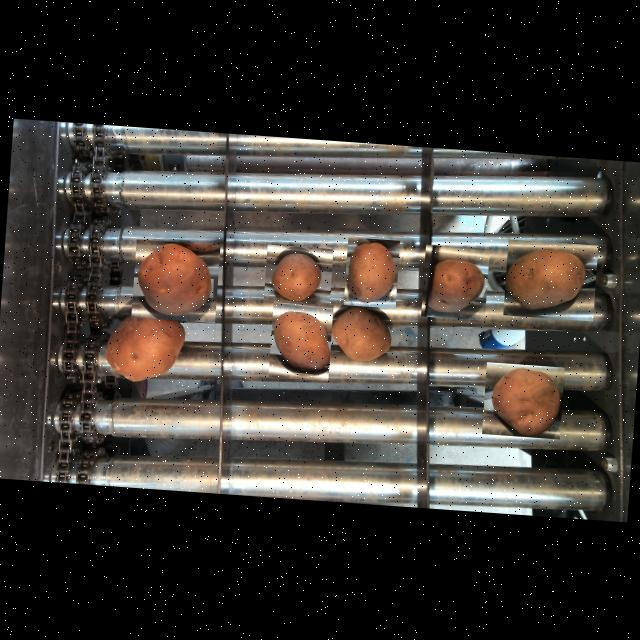Potato: (503, 239, 598, 321), (131, 239, 220, 323), (101, 304, 190, 386), (482, 362, 564, 439), (420, 244, 490, 320), (268, 300, 333, 380), (326, 300, 399, 370), (263, 244, 333, 304), (343, 237, 400, 308)
